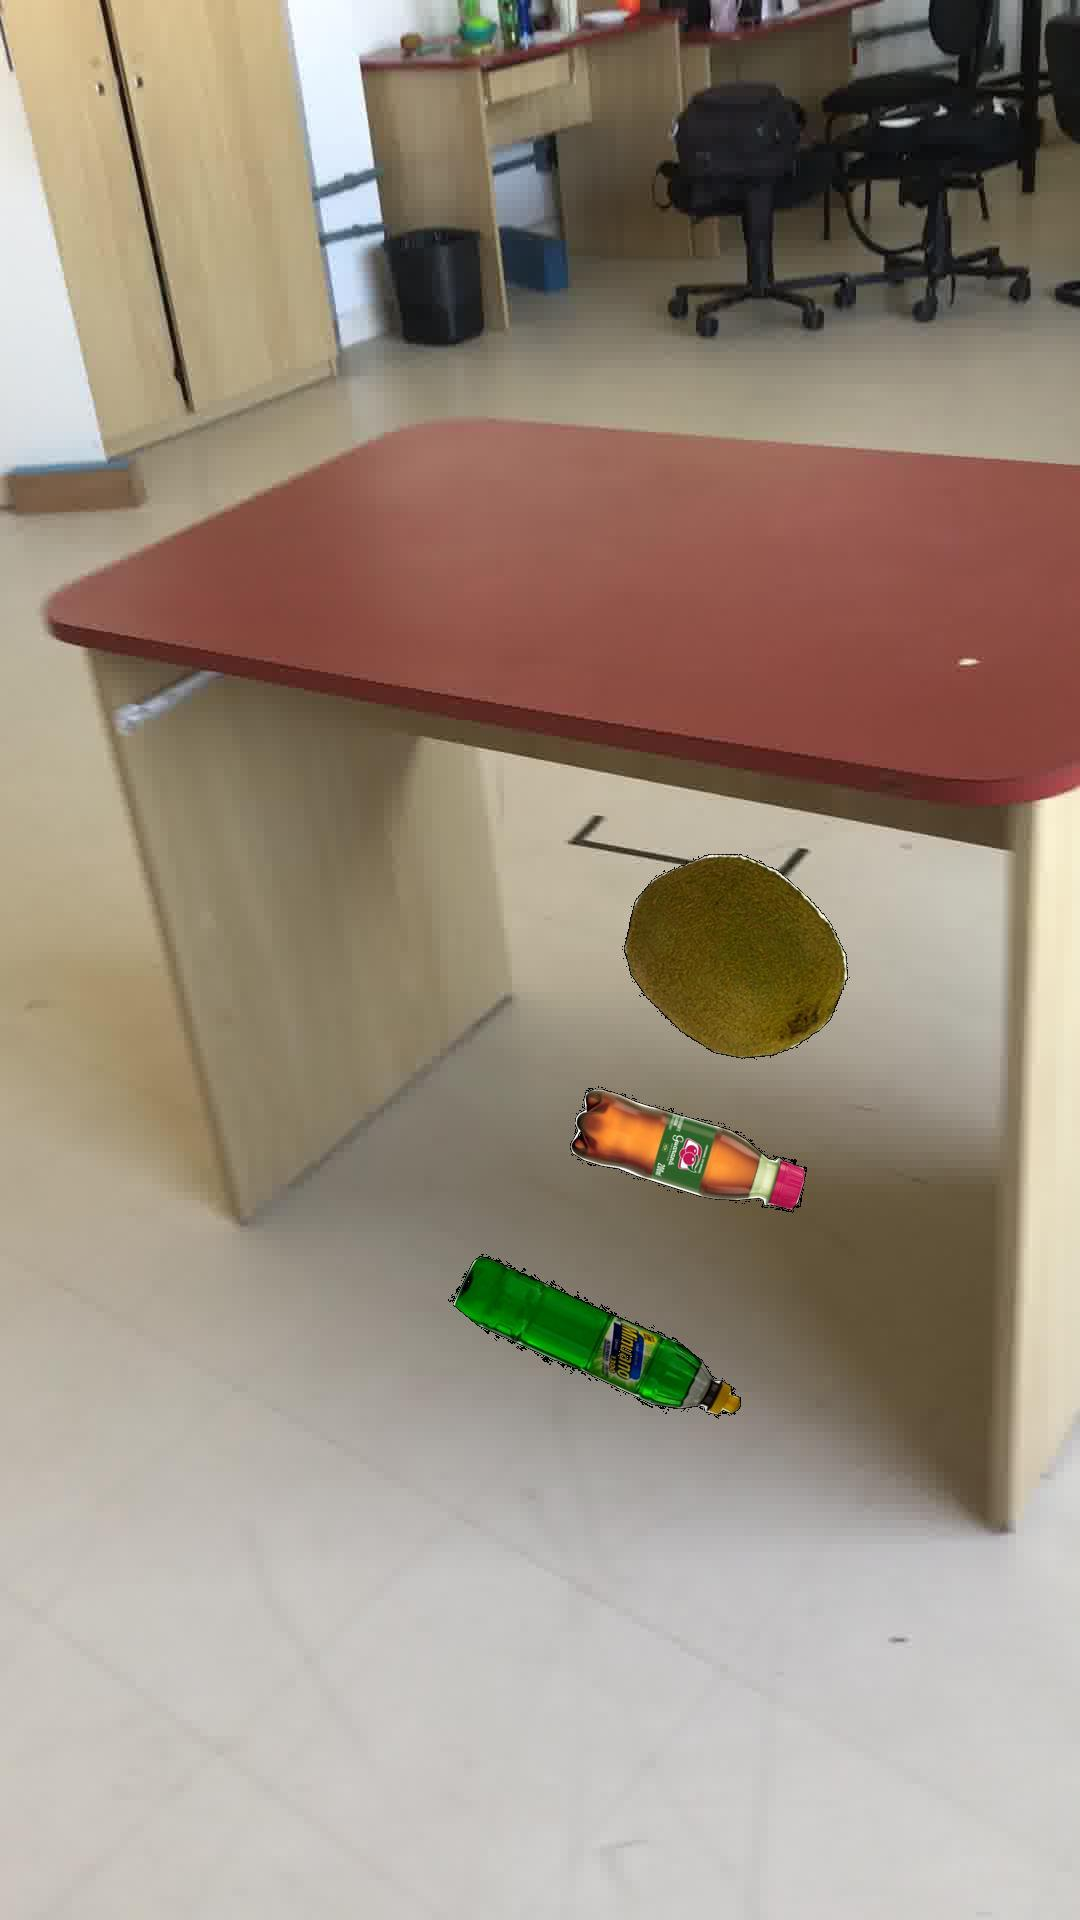cleaner: (447, 1253, 740, 1415)
guarana: (568, 1087, 806, 1211)
kiwi: (622, 852, 847, 1058)
